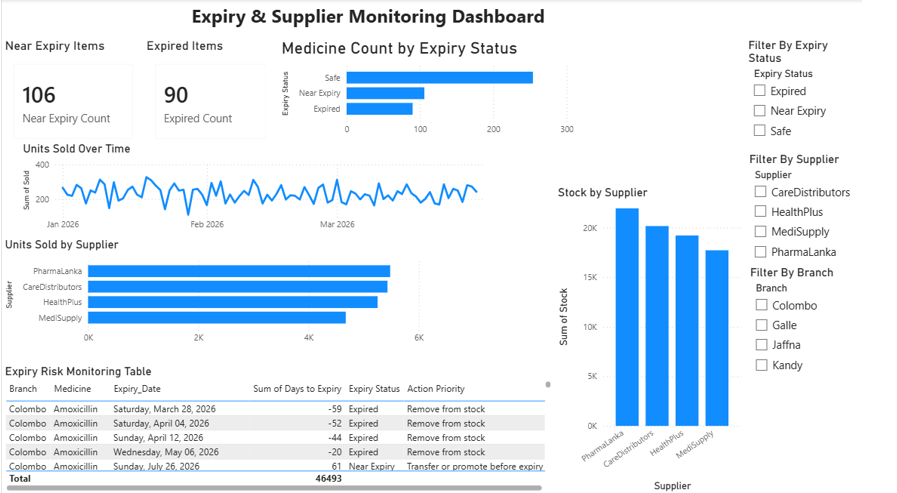

Layout of this report page (visuals, bound fields, positions):
{"tool":"powerbi","page":{"name":"Expiry & Supplier Monitoring","canvas":[1280,720],"ordinal":1},"visuals":[{"type":"textbox","box":[205.5,0,654.6,56.9],"z":0},{"type":"cardVisual","title":"Near Expiry Items","fields":{"Data":["medicare_data.Near Expiry Count"]},"box":[0,56.9,208.7,164.4],"z":1},{"type":"cardVisual","title":"Expired Items","fields":{"Data":["medicare_data.Expired Count"]},"box":[205.5,56.9,196,164.4],"z":2},{"type":"clusteredBarChart","title":"Medicine Count by Expiry Status","fields":{"Category":["medicare_data.Expiry Status"],"Y":["CountNonNull(medicare_data.Medicine)"]},"box":[402.1,56.3,435,150.9],"z":3},{"type":"tableEx","title":"Expiry Risk Monitoring Table","fields":{"Values":["medicare_data.Branch","medicare_data.Medicine","medicare_data.Expiry_Date","Sum(medicare_data.Days to Expiry)","medicare_data.Expiry Status","medicare_data.Action Priority"]},"box":[0,531,804.1,189.4],"z":4},{"type":"clusteredColumnChart","title":"Stock by Supplier","fields":{"Category":["medicare_data.Supplier"],"Y":["Sum(medicare_data.Stock)"]},"box":[804.1,270.3,277.2,450.1],"z":5},{"type":"clusteredBarChart","title":"Units Sold by Supplier","fields":{"Category":["medicare_data.Supplier"],"Y":["Sum(medicare_data.Sold)"]},"box":[0,345.8,618.9,164.7],"z":6},{"type":"lineChart","title":"Units Sold Over Time","fields":{"Y":["Sum(medicare_data.Sold)"],"Category":["medicare_data.Date"]},"box":[26.1,207.2,695.7,138.6],"z":7},{"type":"slicer","title":"Filter By Branch","fields":{"Values":["medicare_data.Branch"]},"box":[1084.1,387,196.2,163.3],"z":8},{"type":"slicer","title":"Filter By Supplier","fields":{"Values":["medicare_data.Supplier"]},"box":[1082.7,222.3,196.2,164.7],"z":9},{"type":"slicer","title":"Filter By Expiry Status","fields":{"Values":["medicare_data.Expiry Status"]},"box":[1081.3,56.3,161.9,163.3],"z":10}]}

Visuals, with their boxes in screenshot pixels (x1, y1, x2, y2), scaled from the page's 1280x720 canvas onto the 897x493 screenshot:
textbox: bbox=(144, 0, 603, 39)
"Near Expiry Items" cardVisual: bbox=(0, 39, 146, 152)
"Expired Items" cardVisual: bbox=(144, 39, 281, 152)
"Medicine Count by Expiry Status" clusteredBarChart: bbox=(282, 39, 587, 142)
"Expiry Risk Monitoring Table" tableEx: bbox=(0, 364, 563, 492)
"Stock by Supplier" clusteredColumnChart: bbox=(563, 185, 758, 492)
"Units Sold by Supplier" clusteredBarChart: bbox=(0, 237, 434, 350)
"Units Sold Over Time" lineChart: bbox=(18, 142, 506, 237)
"Filter By Branch" slicer: bbox=(760, 265, 896, 377)
"Filter By Supplier" slicer: bbox=(759, 152, 896, 265)
"Filter By Expiry Status" slicer: bbox=(758, 39, 871, 150)
